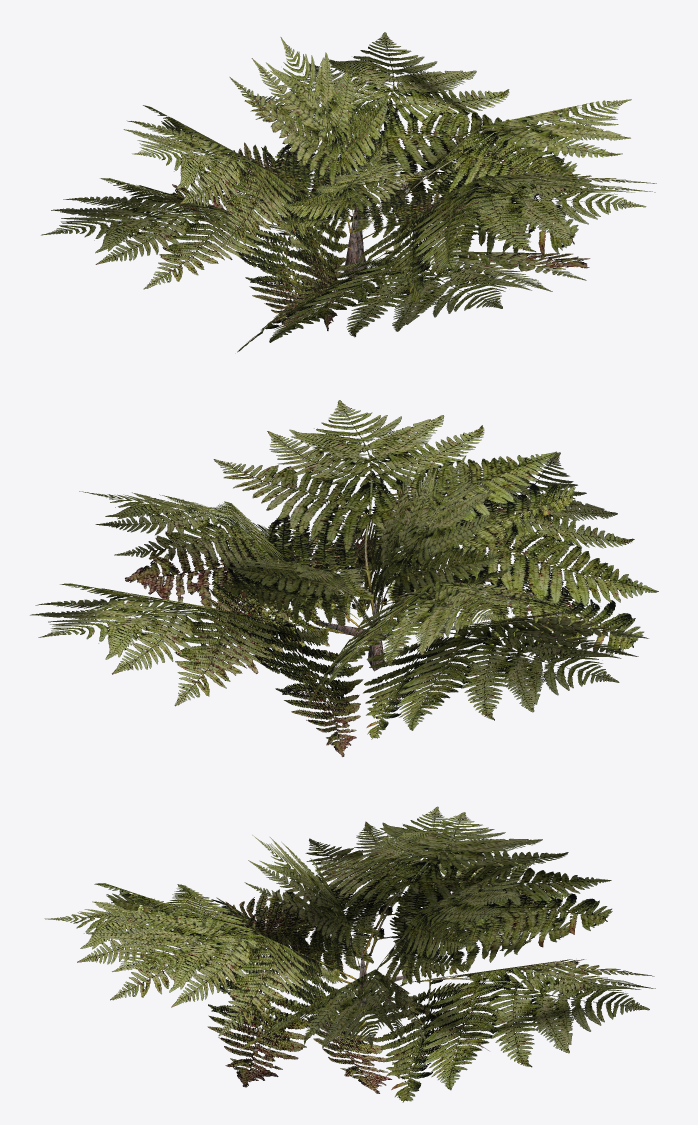
The model's file is NW_NATURE_FARN_SMALL_102P.glb.
3 views of the same model, one above another, from view 1: azimuth 30°, elevation 25°; view 2: azimuth 150°, elevation 25°; view 3: azimuth 270°, elevation 25° (orthographic). The views are drawn at different scales.
Visible parts, largest first — view 1: Mesh; view 2: Mesh; view 3: Mesh.
Part boxes in pixels (bbox=[...]): Mesh: bbox=[41, 32, 656, 352]; Mesh: bbox=[30, 400, 658, 756]; Mesh: bbox=[44, 806, 655, 1102].
Size of the model in its own units: 4.36 by 1.49 by 4.24.
2 materials, 2 textured.
